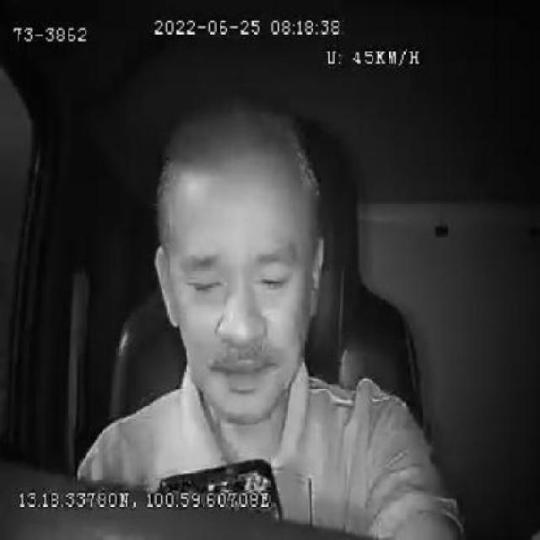phone: (162, 456, 277, 491)
